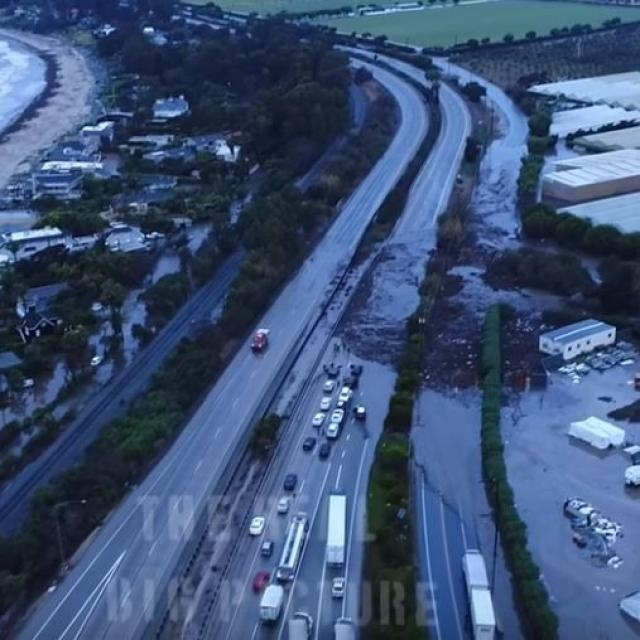traffic_incident: (324, 248, 536, 399)
